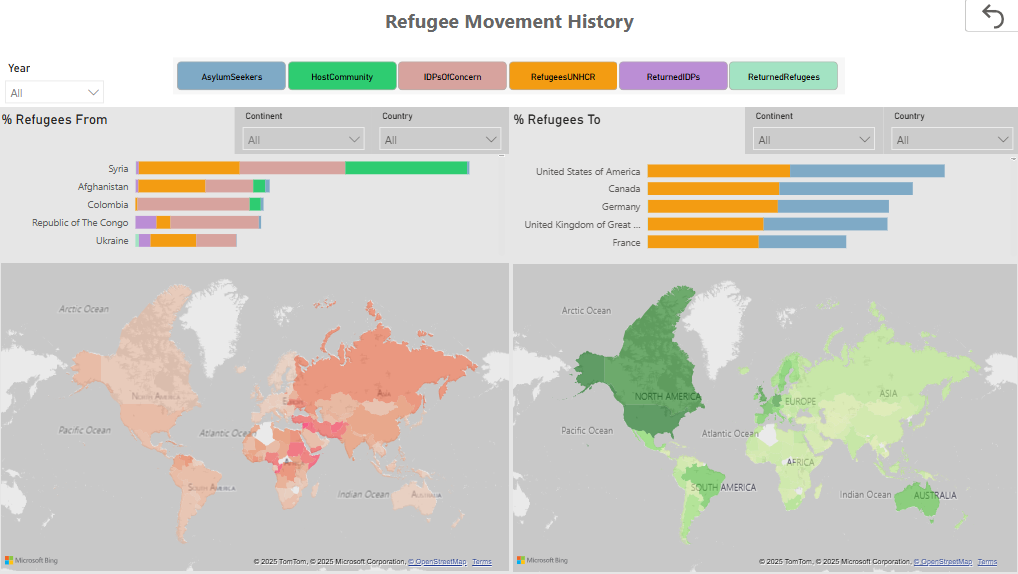

The page's visual inventory and layout, read from the dashboard file:
{"tool":"powerbi","page":{"name":"Dashboard","canvas":[1280,720],"ordinal":0},"visuals":[{"type":"textbox","box":[462,5,356,47],"z":0},{"type":"slicer","fields":{"Values":["YearDim.Year"]},"box":[1122,56,143,61],"z":1000},{"type":"advancedSlicerVisual","fields":{"Values":["PopulationTypeDim.PopulationType"]},"box":[220,73,840,46],"z":2000},{"type":"filledMap","title":"Refugees Fleeing From","fields":{"Category":["RefugeeFact.CountryOrigin"]},"box":[0,325.5,648.2,394.5],"z":3000},{"type":"filledMap","title":"Refugee Fleeing To","fields":{"Category":["RefugeeFact.CountryAsylum"]},"box":[640,326.2,640,393.8],"z":4000},{"type":"group","id":"g1","title":"Group 1","box":[0,135,640,191.4],"z":5000},{"type":"barChart","title":"      ","fields":{"Series":["RefugeeFact.PopulationType"],"Category":["RefugeeFact.CountryAsylum"],"Y":["CountNonNull(RefugeeFact.PopulationCount)"]},"box":[640,167,640,160],"z":5000,"group":"g2"},{"type":"group","id":"g2","title":"Group 3","box":[640,135,640,192],"z":6000},{"type":"group","id":"g3","title":"Group 2","box":[640,135,640,51],"z":8000,"group":"g2"},{"type":"textbox","box":[0,135,297,59],"z":12000,"group":"g1"},{"type":"textbox","box":[640,135,145.7,31.9],"z":12000,"group":"g3"},{"type":"barChart","title":"      ","fields":{"Series":["RefugeeFact.PopulationType"],"Y":["Bar.Filtered Refugee Population"],"Category":["RefugeeFact.CountryOrigin"]},"box":[0,166.5,640,159.8],"z":13500,"group":"g1"},{"type":"slicer","fields":{"Values":["RefugeeFact.ContinentAsylum"]},"box":[935,135,173,51],"z":14500,"group":"g3"},{"type":"slicer","fields":{"Values":["RefugeeFact.CountryAsylum"]},"box":[1108,135,172,51],"z":15000,"group":"g3"},{"type":"slicer","fields":{"Values":["RefugeeFact.ContinentOrigin"]},"box":[296.6,135.3,172.4,56.2],"z":15500,"group":"g1"},{"type":"slicer","fields":{"Values":["RefugeeFact.CountryOrigin"]},"box":[467.6,135.3,172.4,56.2],"z":16000,"group":"g1"}]}

Visuals, with their boxes in screenshot pixels (x1, y1, x2, y2), scaled from the page's 1280x720 canvas onto the 1018x574 screenshot:
textbox: [367,4,651,41]
slicer - YearDim.Year: [892,45,1006,93]
advancedSlicerVisual - PopulationTypeDim.PopulationType: [175,58,843,95]
"Refugees Fleeing From" filledMap: [0,259,516,573]
"Refugee Fleeing To" filledMap: [509,260,1017,573]
"Group 1" group: [0,108,509,260]
"      " barChart: [509,133,1017,261]
"Group 3" group: [509,108,1017,261]
"Group 2" group: [509,108,1017,148]
textbox: [0,108,236,155]
textbox: [509,108,625,133]
"      " barChart: [0,133,509,260]
slicer - RefugeeFact.ContinentAsylum: [744,108,881,148]
slicer - RefugeeFact.CountryAsylum: [881,108,1017,148]
slicer - RefugeeFact.ContinentOrigin: [236,108,373,153]
slicer - RefugeeFact.CountryOrigin: [372,108,509,153]
